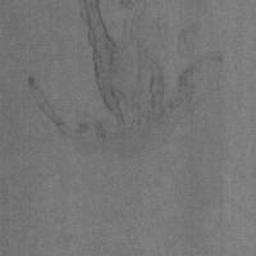Water spot: (26, 0, 225, 161)
